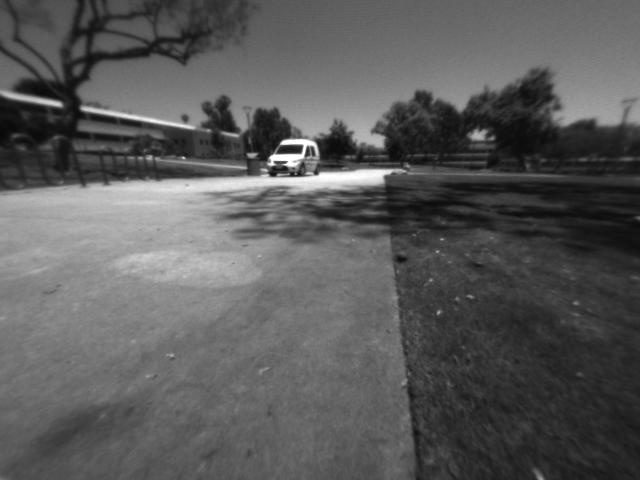dogtoy: (389, 240, 414, 266)
